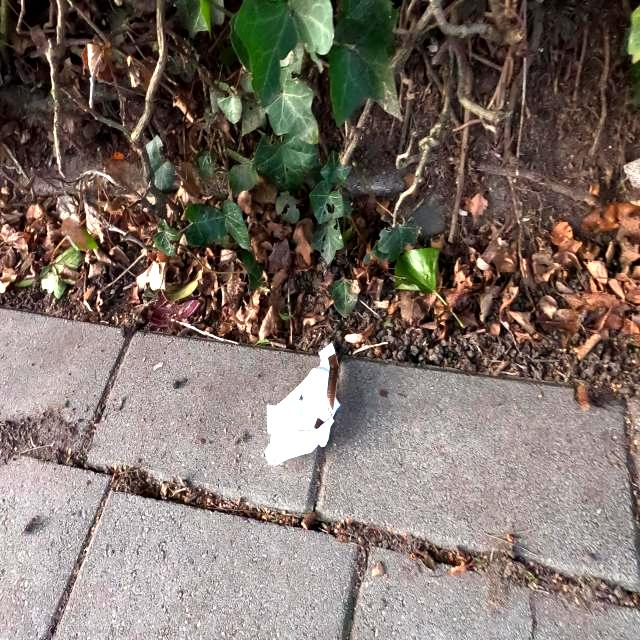Plastic: (264, 346, 340, 464)
